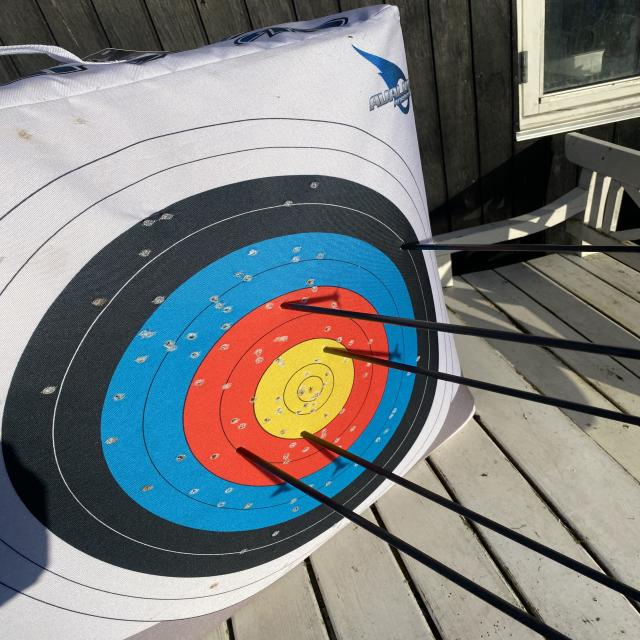Arrow_Black: (390, 236, 418, 258)
Arrow_Red: (232, 441, 263, 466), (276, 294, 298, 322)
Arrow_Yellow: (314, 342, 350, 363), (293, 422, 318, 448)
